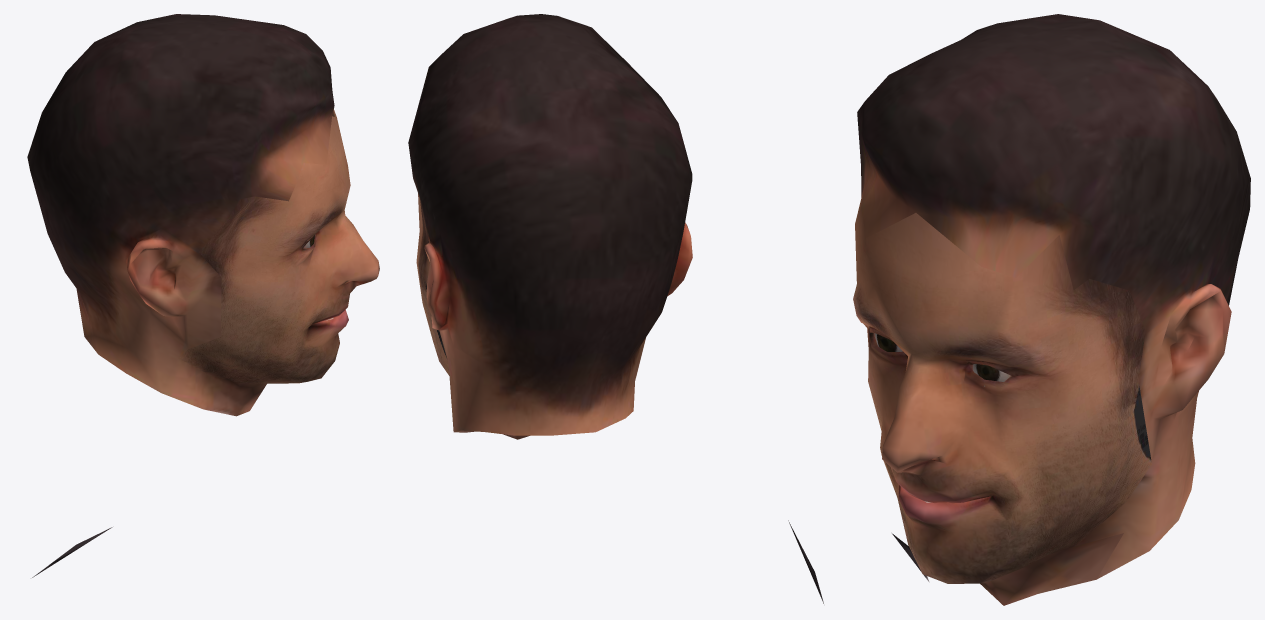
Rendered from cabeza.obj.
3 renders of one model, left to right at view 1: azimuth 30°, elevation 25°; view 2: azimuth 150°, elevation 25°; view 3: azimuth 270°, elevation 25°, orthographic. The views are drawn at different scales.
Visible parts, largest first — view 1: cabeza; view 2: cabeza; view 3: cabeza.
Part boxes in pixels (<box>): cabeza: <box>27,14,379,577</box>; cabeza: <box>408,14,823,603</box>; cabeza: <box>853,14,1250,605</box>.
Bounding box in the file's own units: 4.68 × 6.28 × 3.24.
Materials: 1 (1 with a texture image).
